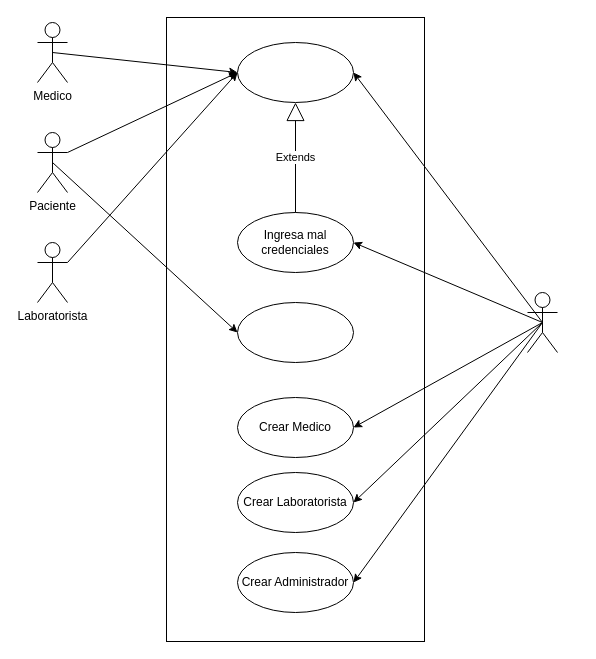
Some shapes in this 596 by 659 pixel diagram are drawn without their labels. Here are the shapes that lost their labels. From the top down, the centre of each, then its label:
point (295, 72): Login
point (295, 332): Crear Paciente
point (542, 322): Administrador
